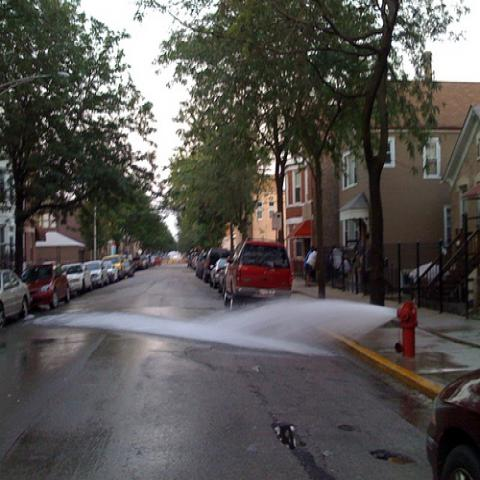car: (0, 83, 459, 332), (422, 369, 478, 478), (220, 238, 293, 311), (19, 260, 72, 308), (61, 262, 93, 295), (84, 259, 110, 288), (208, 258, 229, 290), (102, 255, 125, 280), (102, 260, 118, 282), (123, 258, 135, 275), (141, 255, 151, 270), (133, 257, 143, 271), (151, 255, 162, 267)
truck: (202, 248, 230, 283)
